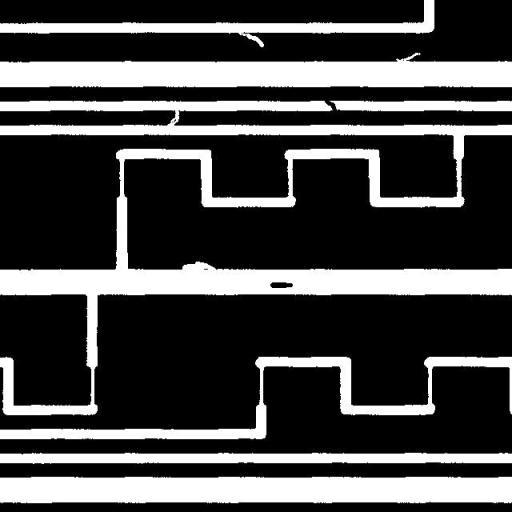copper: (262, 274, 300, 296)
mousebite: (174, 254, 226, 282), (230, 24, 272, 54), (388, 44, 428, 70)
open: (160, 99, 186, 134)
short: (317, 91, 348, 122)
